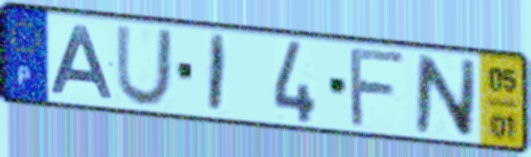4: (271, 37, 319, 128)
A: (47, 24, 118, 102)
F: (346, 46, 410, 131)
I: (204, 32, 230, 116)
N: (412, 52, 479, 141)
U: (113, 23, 176, 110)
